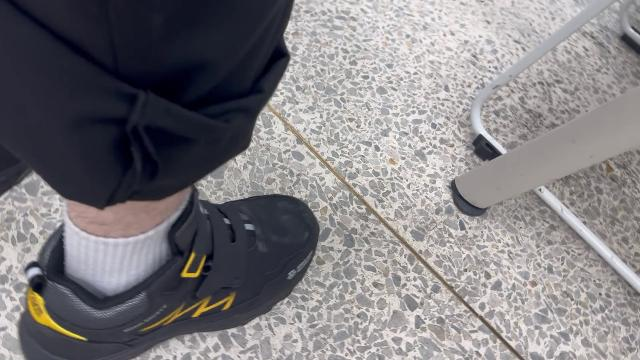shoe_worn: (23, 192, 318, 360)
